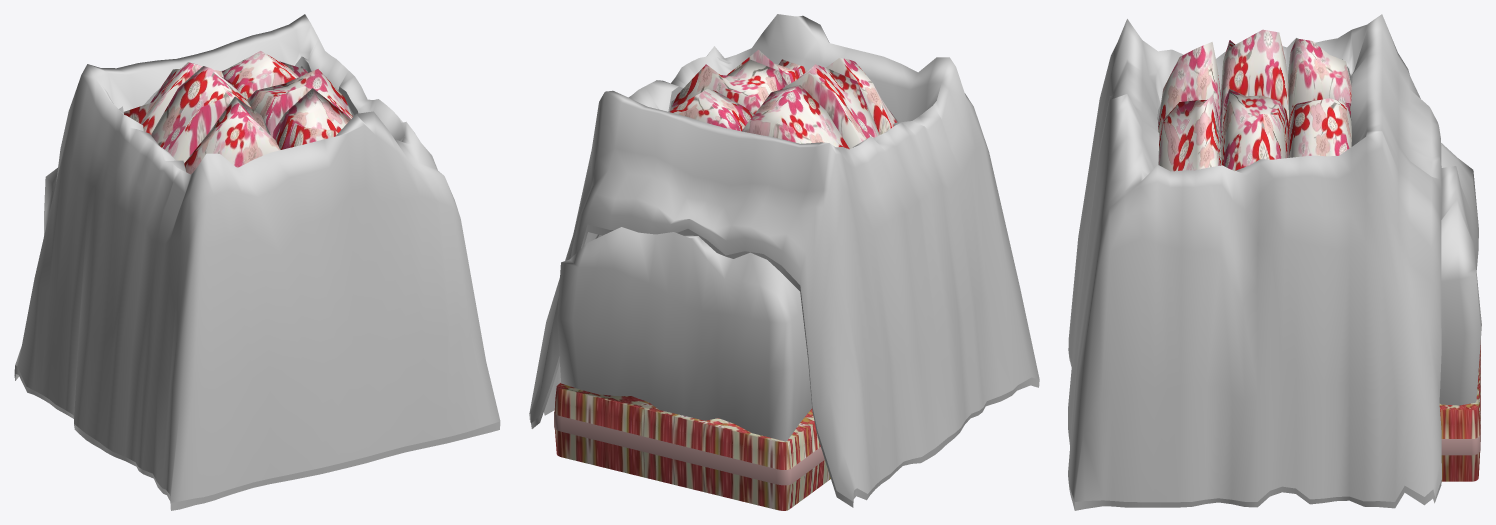
Rendered from sh-scopia-futon.glb.
The picture shows the model from 3 angles, left to right: view 1: azimuth 30°, elevation 25°; view 2: azimuth 150°, elevation 25°; view 3: azimuth 270°, elevation 25°; orthographic projection. The views are drawn at different scales.
Visible parts, largest first — view 1: futon_Cube.002, texturedCover_Plane.001; view 2: futon_Cube.002, base_Cube.001, texturedCover_Plane.001; view 3: futon_Cube.002, texturedCover_Plane.001, base_Cube.001.
Boxes of the visible parts, x1=… form: futon_Cube.002: x1=14, y1=14, x2=500, y2=510; texturedCover_Plane.001: x1=124, y1=51, x2=352, y2=174; futon_Cube.002: x1=529, y1=14, x2=1039, y2=507; base_Cube.001: x1=554, y1=383, x2=830, y2=510; texturedCover_Plane.001: x1=669, y1=49, x2=898, y2=149; futon_Cube.002: x1=1068, y1=14, x2=1481, y2=510; texturedCover_Plane.001: x1=1158, y1=29, x2=1351, y2=171; base_Cube.001: x1=1439, y1=340, x2=1480, y2=481.
Bounding box in the file's own units: 1 × 1 × 1.
4 materials, 2 textured.
